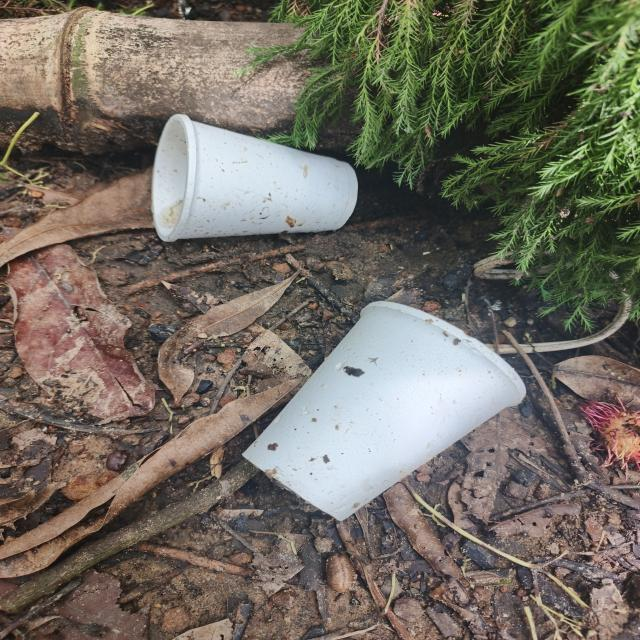plastic: (230, 292, 548, 535), (135, 105, 379, 256)
